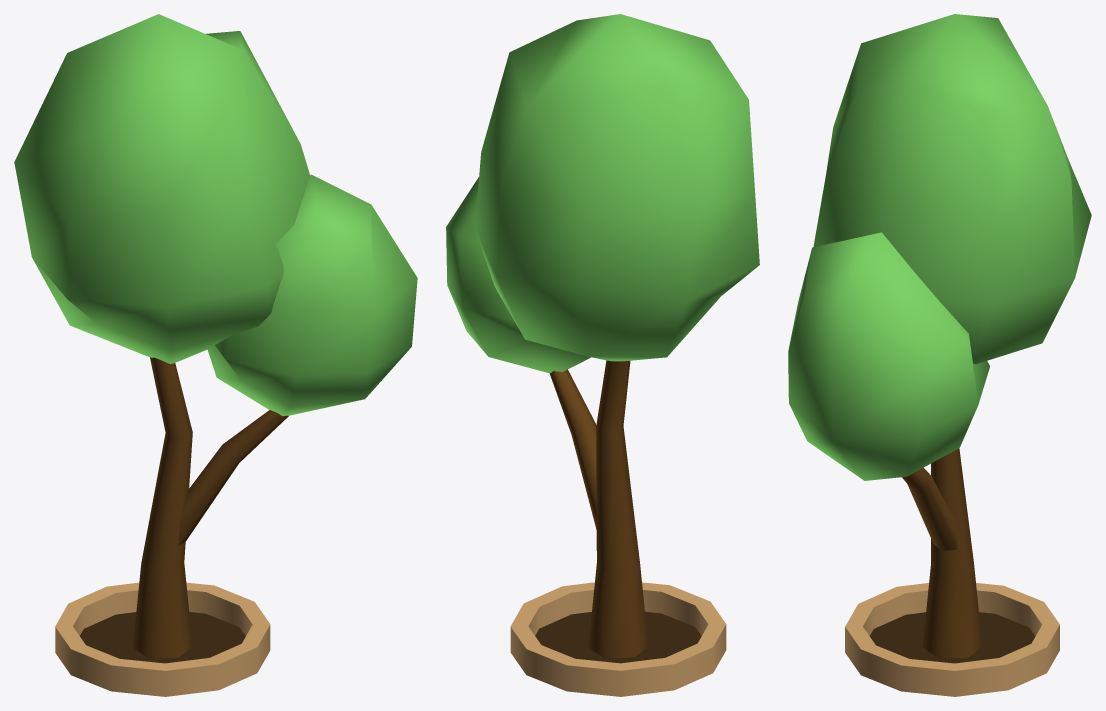
File: trees_2.fbx
The picture shows the model from 3 angles, left to right: view 1: azimuth 30°, elevation 25°; view 2: azimuth 150°, elevation 25°; view 3: azimuth 270°, elevation 25°; orthographic projection.
Parts seen in each view (by area): view 1: trees_2; view 2: trees_2; view 3: trees_2.
Part boxes in pixels (left/top/right/bottom): trees_2: left=14, top=14, right=417, bottom=696; trees_2: left=446, top=14, right=759, bottom=696; trees_2: left=788, top=14, right=1091, bottom=696.
Bounding box in the file's own units: 177 × 345 × 149.
Materials: 1 (1 with a texture image).
